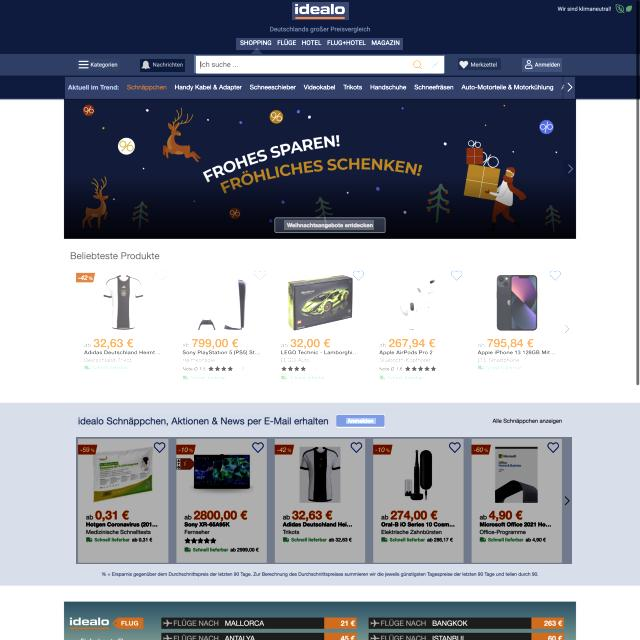CheckBox: (274, 217, 385, 233), (337, 414, 385, 428), (140, 59, 185, 72), (522, 58, 562, 72), (458, 58, 501, 70)
CheckedTextView: (194, 55, 445, 73)
RadioButton: (75, 272, 96, 283)
Switch: (76, 437, 572, 564), (67, 262, 578, 385)
bag: (0, 0, 640, 98)
breadcrumbs: (76, 414, 330, 427), (70, 250, 160, 262)
card: (64, 98, 576, 239)
carousel: (155, 268, 169, 283), (253, 268, 266, 282), (412, 59, 424, 71), (430, 60, 442, 70)
data feed: (284, 220, 374, 230), (346, 418, 376, 424)
date picker: (292, 2, 349, 20)
decoration: (65, 77, 575, 99), (236, 37, 403, 49), (77, 59, 120, 71)
footer: (200, 60, 240, 70)
